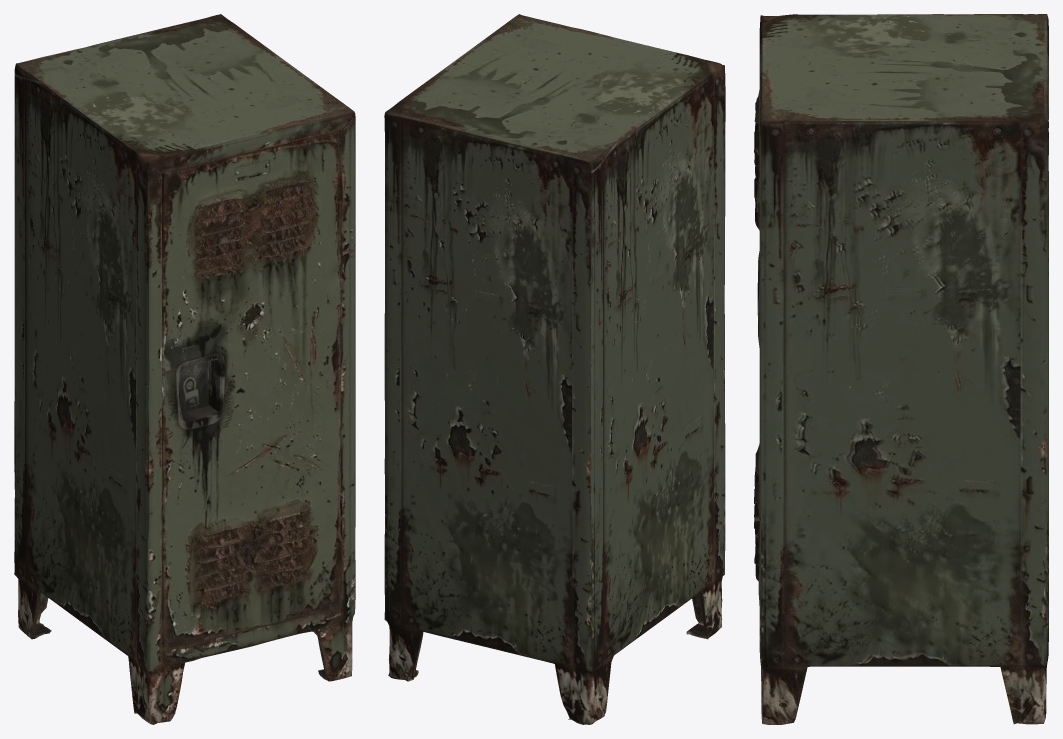
File: locker.glb
The picture shows the model from 3 angles, left to right: view 1: azimuth 30°, elevation 25°; view 2: azimuth 150°, elevation 25°; view 3: azimuth 270°, elevation 25°; orthographic projection. The views are drawn at different scales.
Visible parts, largest first — view 1: Mesh_0; view 2: Mesh_0; view 3: Mesh_0.
Part boxes in pixels (x1,y1,x2,y2): Mesh_0: [14, 14, 355, 724]; Mesh_0: [384, 14, 725, 724]; Mesh_0: [754, 14, 1048, 724].
Size of the model in its own units: 0.7353 by 1.9 by 0.837.
Materials: 1 (1 with a texture image).
